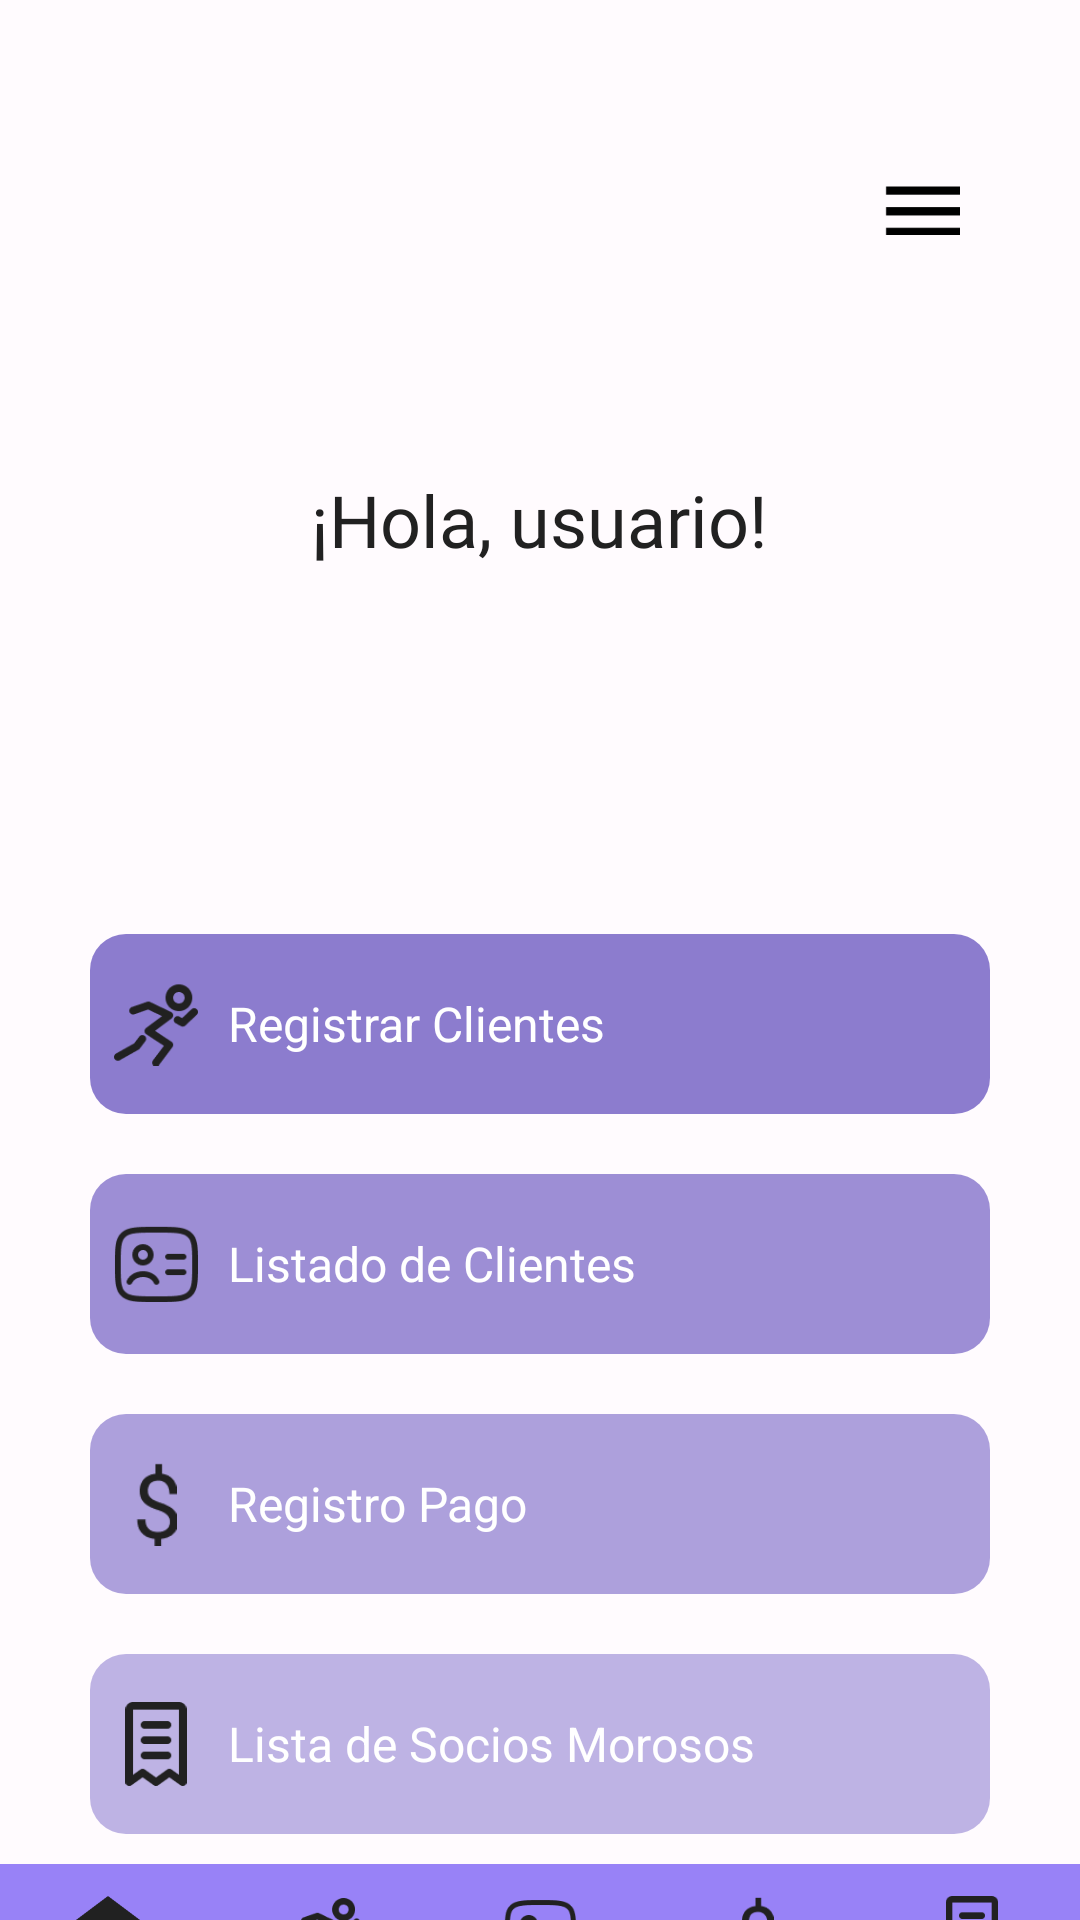

Locate icon controls on the screen. Image size 1080px×1920px, boxes as (x1, y1, x2, y2).
hamburguesa: (885, 186, 960, 235)
